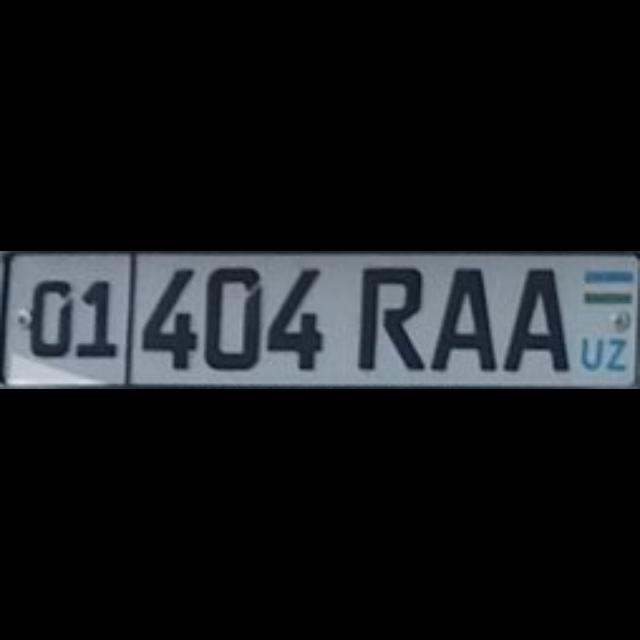0: (202, 266, 260, 370), (26, 279, 70, 357)
1: (75, 276, 113, 354)
4: (139, 266, 197, 368), (264, 266, 320, 370)
A: (428, 266, 494, 370), (501, 266, 567, 370)
R: (355, 264, 421, 370)
